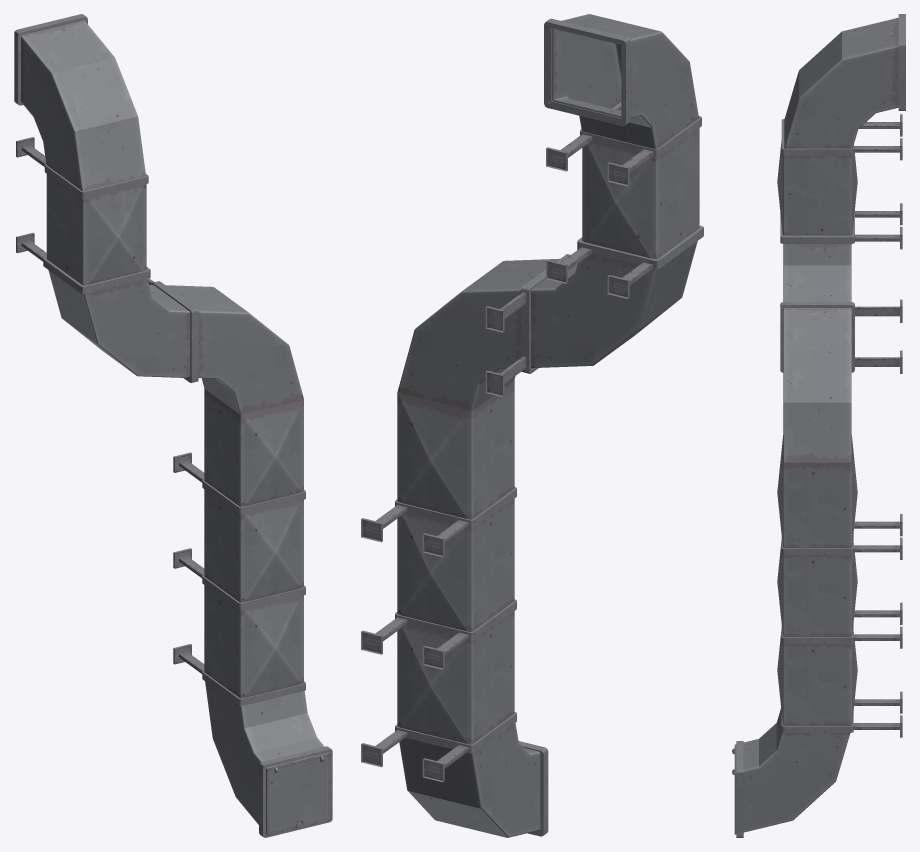
Rendered from Chute4.fbx.
The picture shows the model from 3 angles, left to right: view 1: azimuth 30°, elevation 25°; view 2: azimuth 150°, elevation 25°; view 3: azimuth 270°, elevation 25°; orthographic projection. The views are drawn at different scales.
Visible parts, largest first — view 1: polySurface1363; view 2: polySurface1363; view 3: polySurface1363.
Part boxes in pixels (x1,y1,x2,y2): polySurface1363: (14, 14, 332, 837); polySurface1363: (361, 14, 703, 837); polySurface1363: (732, 14, 905, 837).
Bounding box in the file's own units: 124 × 407 × 88.66.
